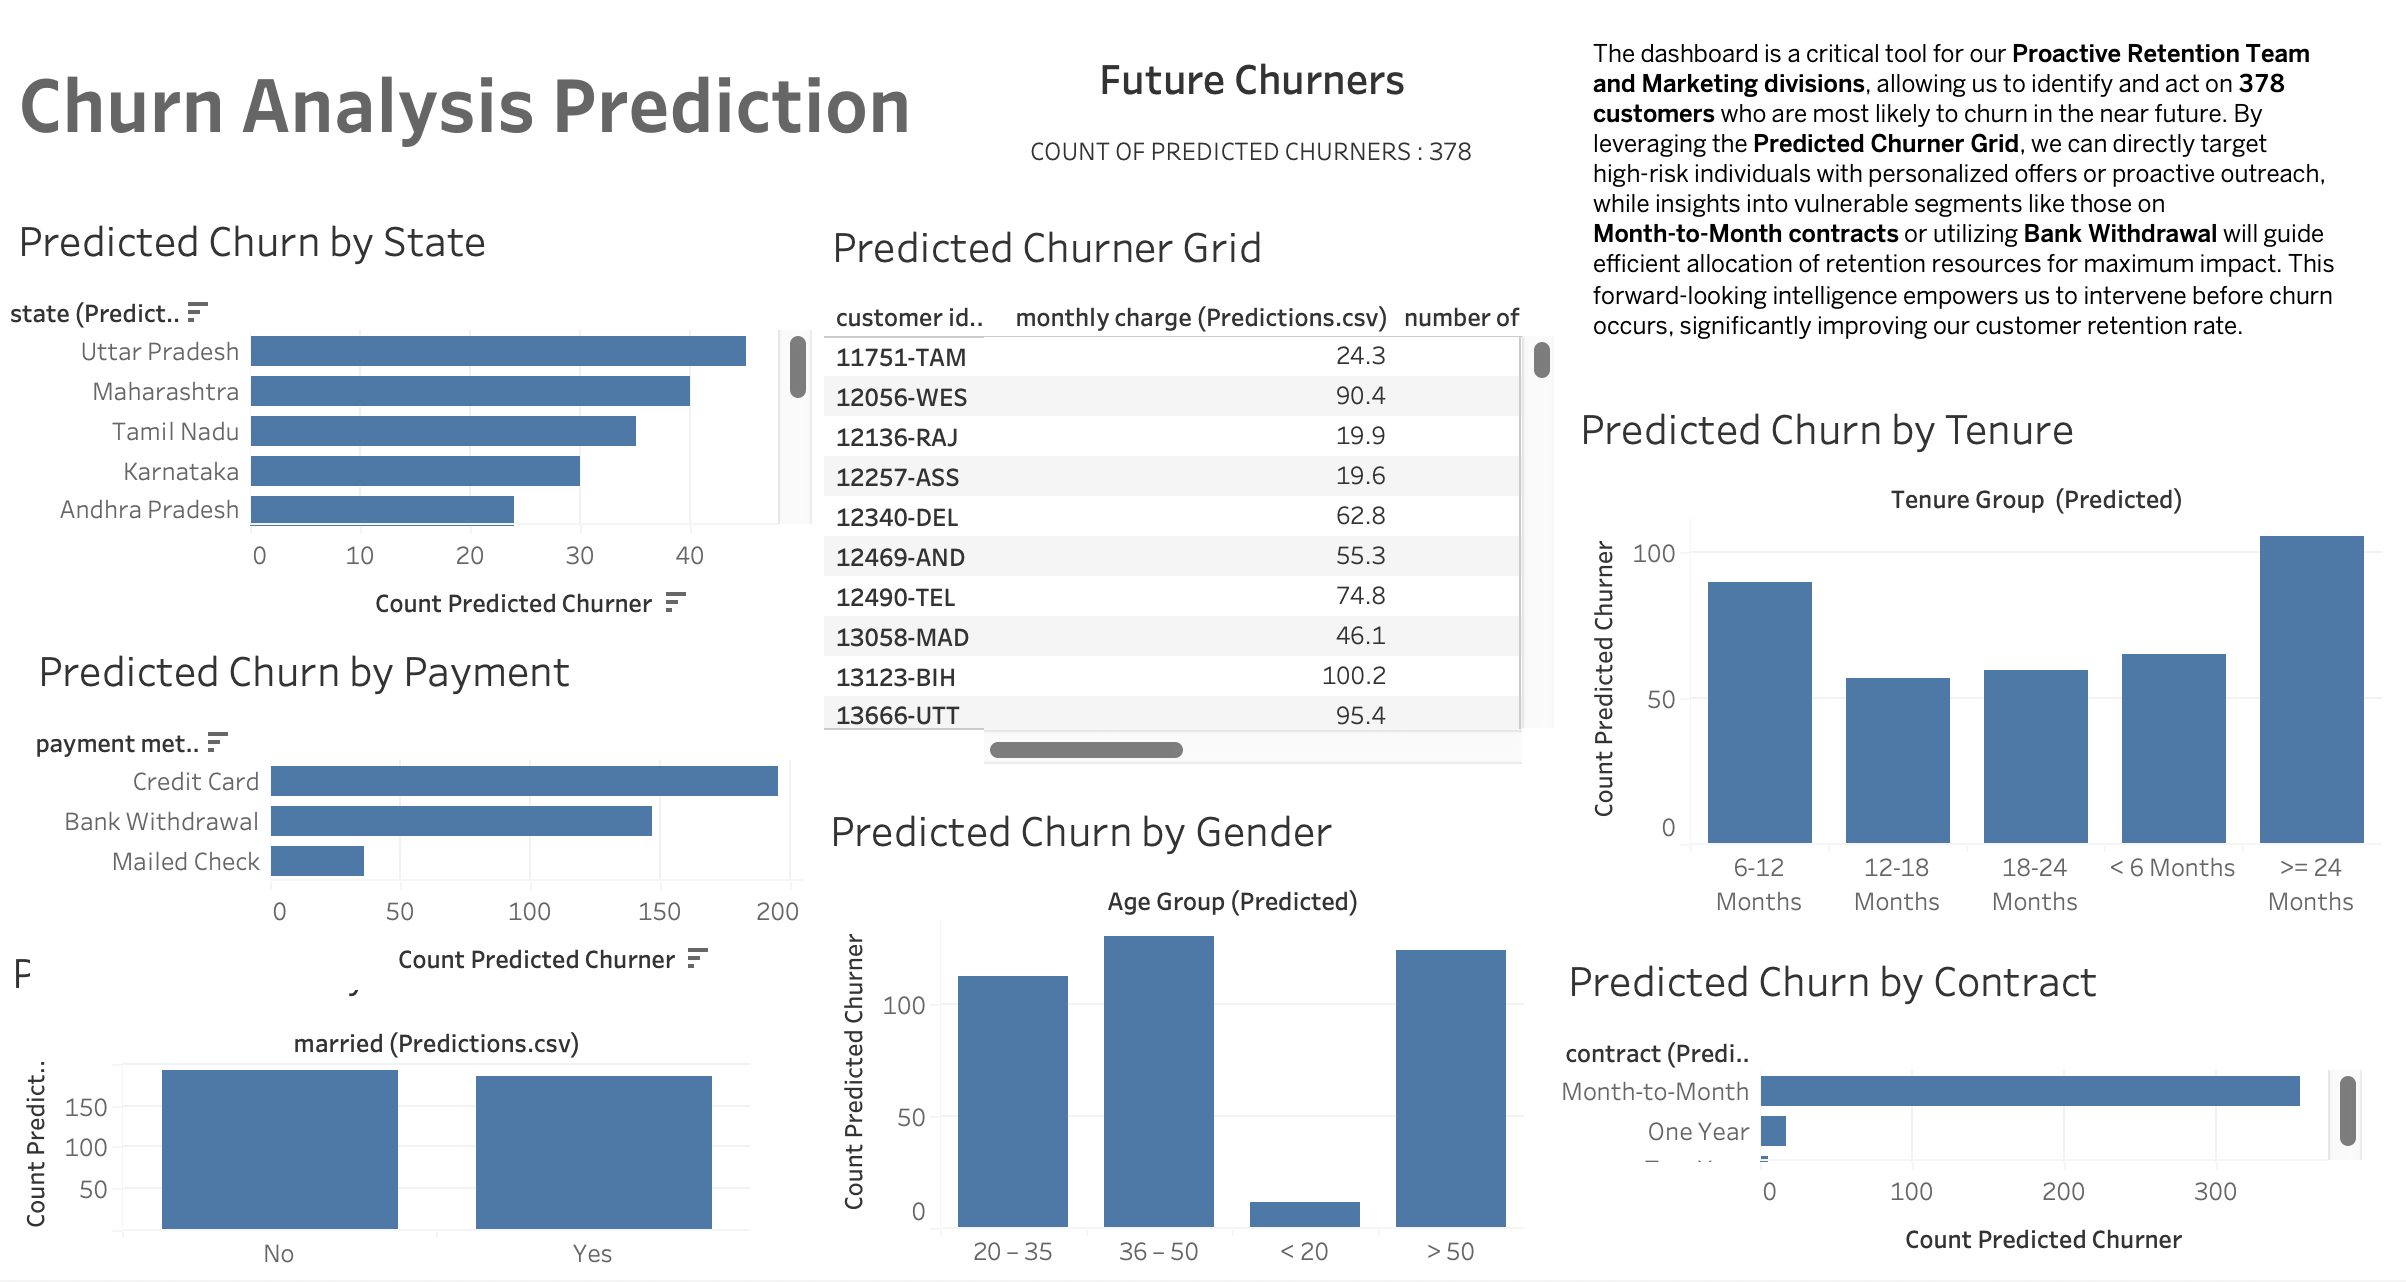

The dashboard page shown, as its layout file describes it:
{"tool":"tableau","page":{"name":"Churn Prediction Dash","canvas":[1000,1000],"units":"permille","ordinal":0},"visuals":[{"type":"text","box":[4.9,13.4,377.5,134.4]},{"type":"text","box":[659.8,18.7,316.2,274.6]},{"type":"worksheet","title":"Count of Predicted Churners","mark":"Automatic","box":[393.8,33.6,253.1,104.8]},{"type":"worksheet","title":"Predicted Churn by State","mark":"Automatic","rows":["state (Predictions.csv)"],"cols":["Calculation_4278349305227759618"],"box":[4.9,160,332.8,334.7]},{"type":"worksheet","title":"Predicted Churner Grid","mark":"Automatic","rows":["customer_id (Predictions.csv)"],"box":[342.6,165.3,303.5,432.8]},{"type":"worksheet","title":"Predicted Churn by Tenure","mark":"Automatic","rows":["Calculation_4278349305227759618"],"cols":["Tenure Group (copy)_4278349305231785990"],"box":[653.4,307.8,336.1,415.3]},{"type":"worksheet","title":"Predicted Churn by Payment","mark":"Automatic","rows":["payment_method (Predictions.csv)"],"cols":["Calculation_4278349305227759618"],"box":[13,496,321.4,333.3]},{"type":"worksheet","title":"Predicted Churn by Gender","mark":"Automatic","rows":["Calculation_4278349305227759618"],"cols":["Calculation_4278349305230344196"],"box":[341.7,621,291.3,371]},{"type":"worksheet","title":"Predicted Churn by Married","mark":"Automatic","rows":["Calculation_4278349305227759618"],"cols":["married (Predictions.csv)"],"box":[2.4,731.2,309.2,262.1]},{"type":"worksheet","title":"Predicted Churn by Contract","mark":"Automatic","rows":["contract (Predictions.csv)"],"cols":["Calculation_4278349305227759618"],"box":[648.5,737.9,332.8,254]}]}

Visuals, with their boxes on the dashboard's canvas, which has no fixed pixel size, in thousandths of its width and height (x1, y1, x2, y2). These are canvas units, not pixel positions in the 2406x1282 screenshot, which may show the page scaled, cropped or inside an application window:
text: x1=5, y1=13, x2=382, y2=148
text: x1=660, y1=19, x2=976, y2=293
"Count of Predicted Churners" worksheet: x1=394, y1=34, x2=647, y2=138
"Predicted Churn by State" worksheet: x1=5, y1=160, x2=338, y2=495
"Predicted Churner Grid" worksheet: x1=343, y1=165, x2=646, y2=598
"Predicted Churn by Tenure" worksheet: x1=653, y1=308, x2=990, y2=723
"Predicted Churn by Payment" worksheet: x1=13, y1=496, x2=334, y2=829
"Predicted Churn by Gender" worksheet: x1=342, y1=621, x2=633, y2=992
"Predicted Churn by Married" worksheet: x1=2, y1=731, x2=312, y2=993
"Predicted Churn by Contract" worksheet: x1=648, y1=738, x2=981, y2=992
